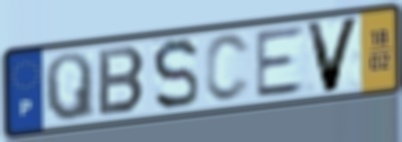B: (96, 45, 148, 119)
C: (203, 31, 253, 105)
E: (253, 22, 307, 101)
Q: (42, 50, 98, 124)
S: (150, 36, 201, 114)
V: (303, 14, 364, 96)
